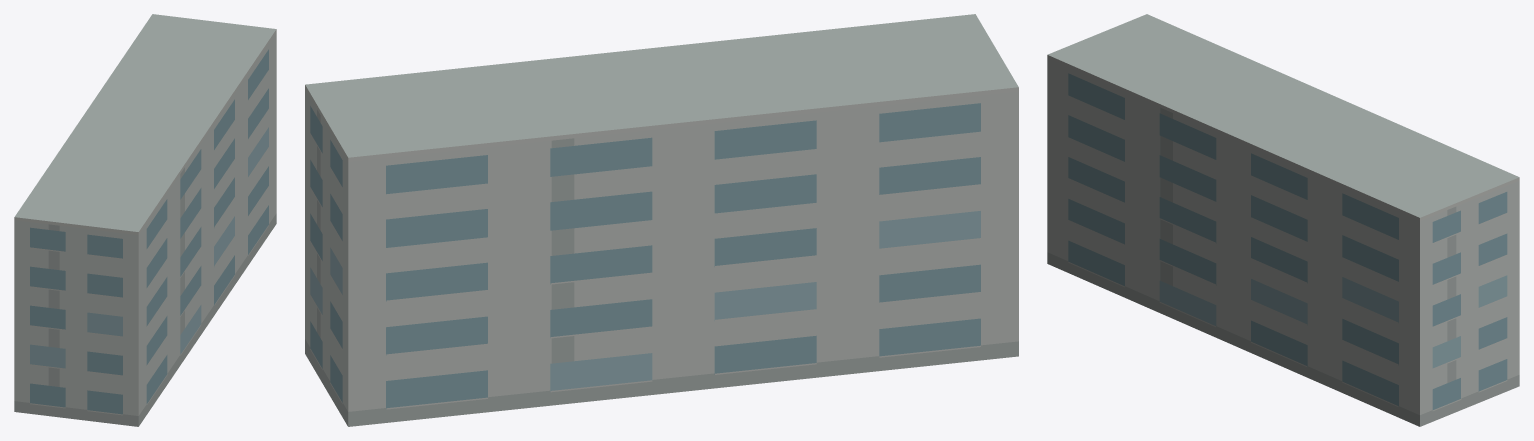
File: residential-c01f9968-b6b1-48ab-9ed6-13ba5df84f86.glb
3 views of the same model, side by side, from view 1: azimuth 30°, elevation 25°; view 2: azimuth 150°, elevation 25°; view 3: azimuth 270°, elevation 25° (orthographic). The views are drawn at different scales.
Visible parts, largest first — view 1: residential-c01f9968-b6b1-48ab-9ed6-13ba5df84f86.tmp; view 2: residential-c01f9968-b6b1-48ab-9ed6-13ba5df84f86.tmp; view 3: residential-c01f9968-b6b1-48ab-9ed6-13ba5df84f86.tmp.
Part boxes in pixels (<box>): residential-c01f9968-b6b1-48ab-9ed6-13ba5df84f86.tmp: <box>14,14,276,426</box>; residential-c01f9968-b6b1-48ab-9ed6-13ba5df84f86.tmp: <box>305,14,1018,426</box>; residential-c01f9968-b6b1-48ab-9ed6-13ba5df84f86.tmp: <box>1047,14,1519,426</box>.
Size of the model in its own units: 31.9 by 15.25 by 31.23.
